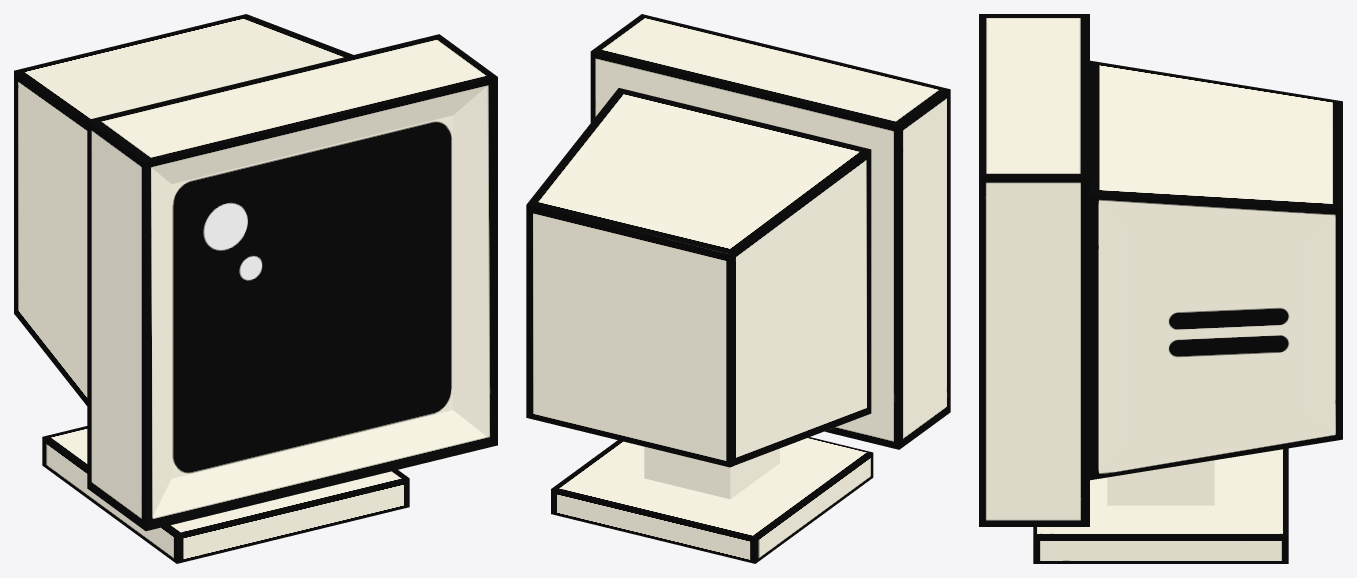
File: LowPolyMonitor.glb
The picture shows the model from 3 angles, left to right: view 1: azimuth 30°, elevation 25°; view 2: azimuth 150°, elevation 25°; view 3: azimuth 270°, elevation 25°; orthographic projection. The views are drawn at different scales.
Visible parts, largest first — view 1: Cube; view 2: Cube; view 3: Cube.
Boxes of the visible parts, x1=… form: Cube: x1=14, y1=14, x2=497, y2=563; Cube: x1=526, y1=14, x2=950, y2=563; Cube: x1=979, y1=14, x2=1342, y2=563.
Size of the model in its own units: 2.12 by 2.51 by 2.
Materials: 1 (1 with a texture image).
